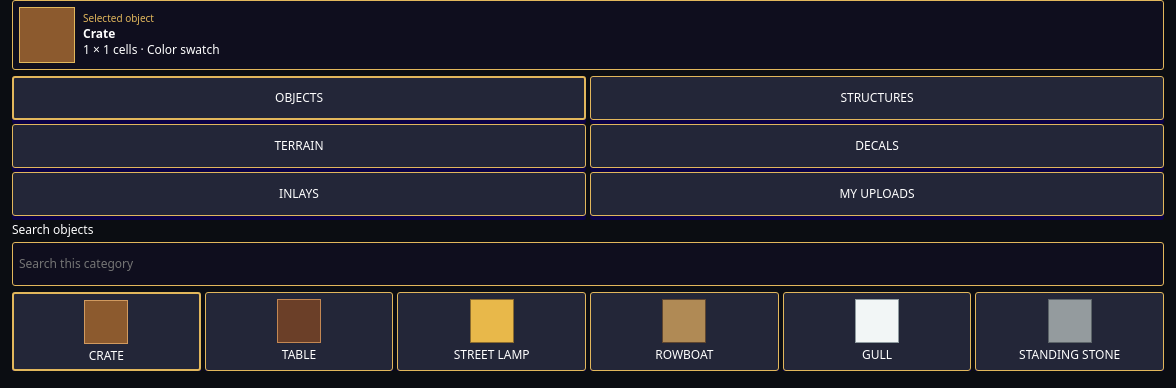
Test: MapEditAssetPicker › switches categories to reveal a different asset set
Click the button "Structures": click(877, 98) [590,76,1164,120]
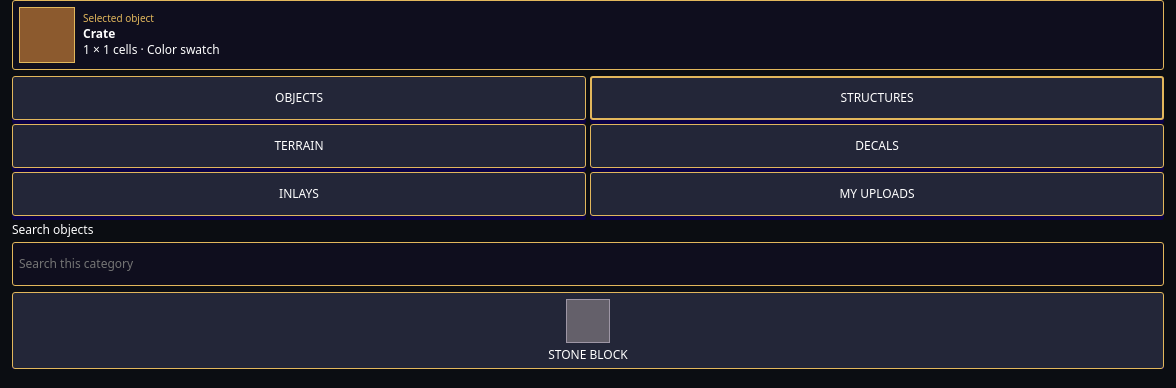
expect the button titled "Stone Block" is shown: met, box [12,292,1164,369]
expect the button titled "Crate" is gone: met
